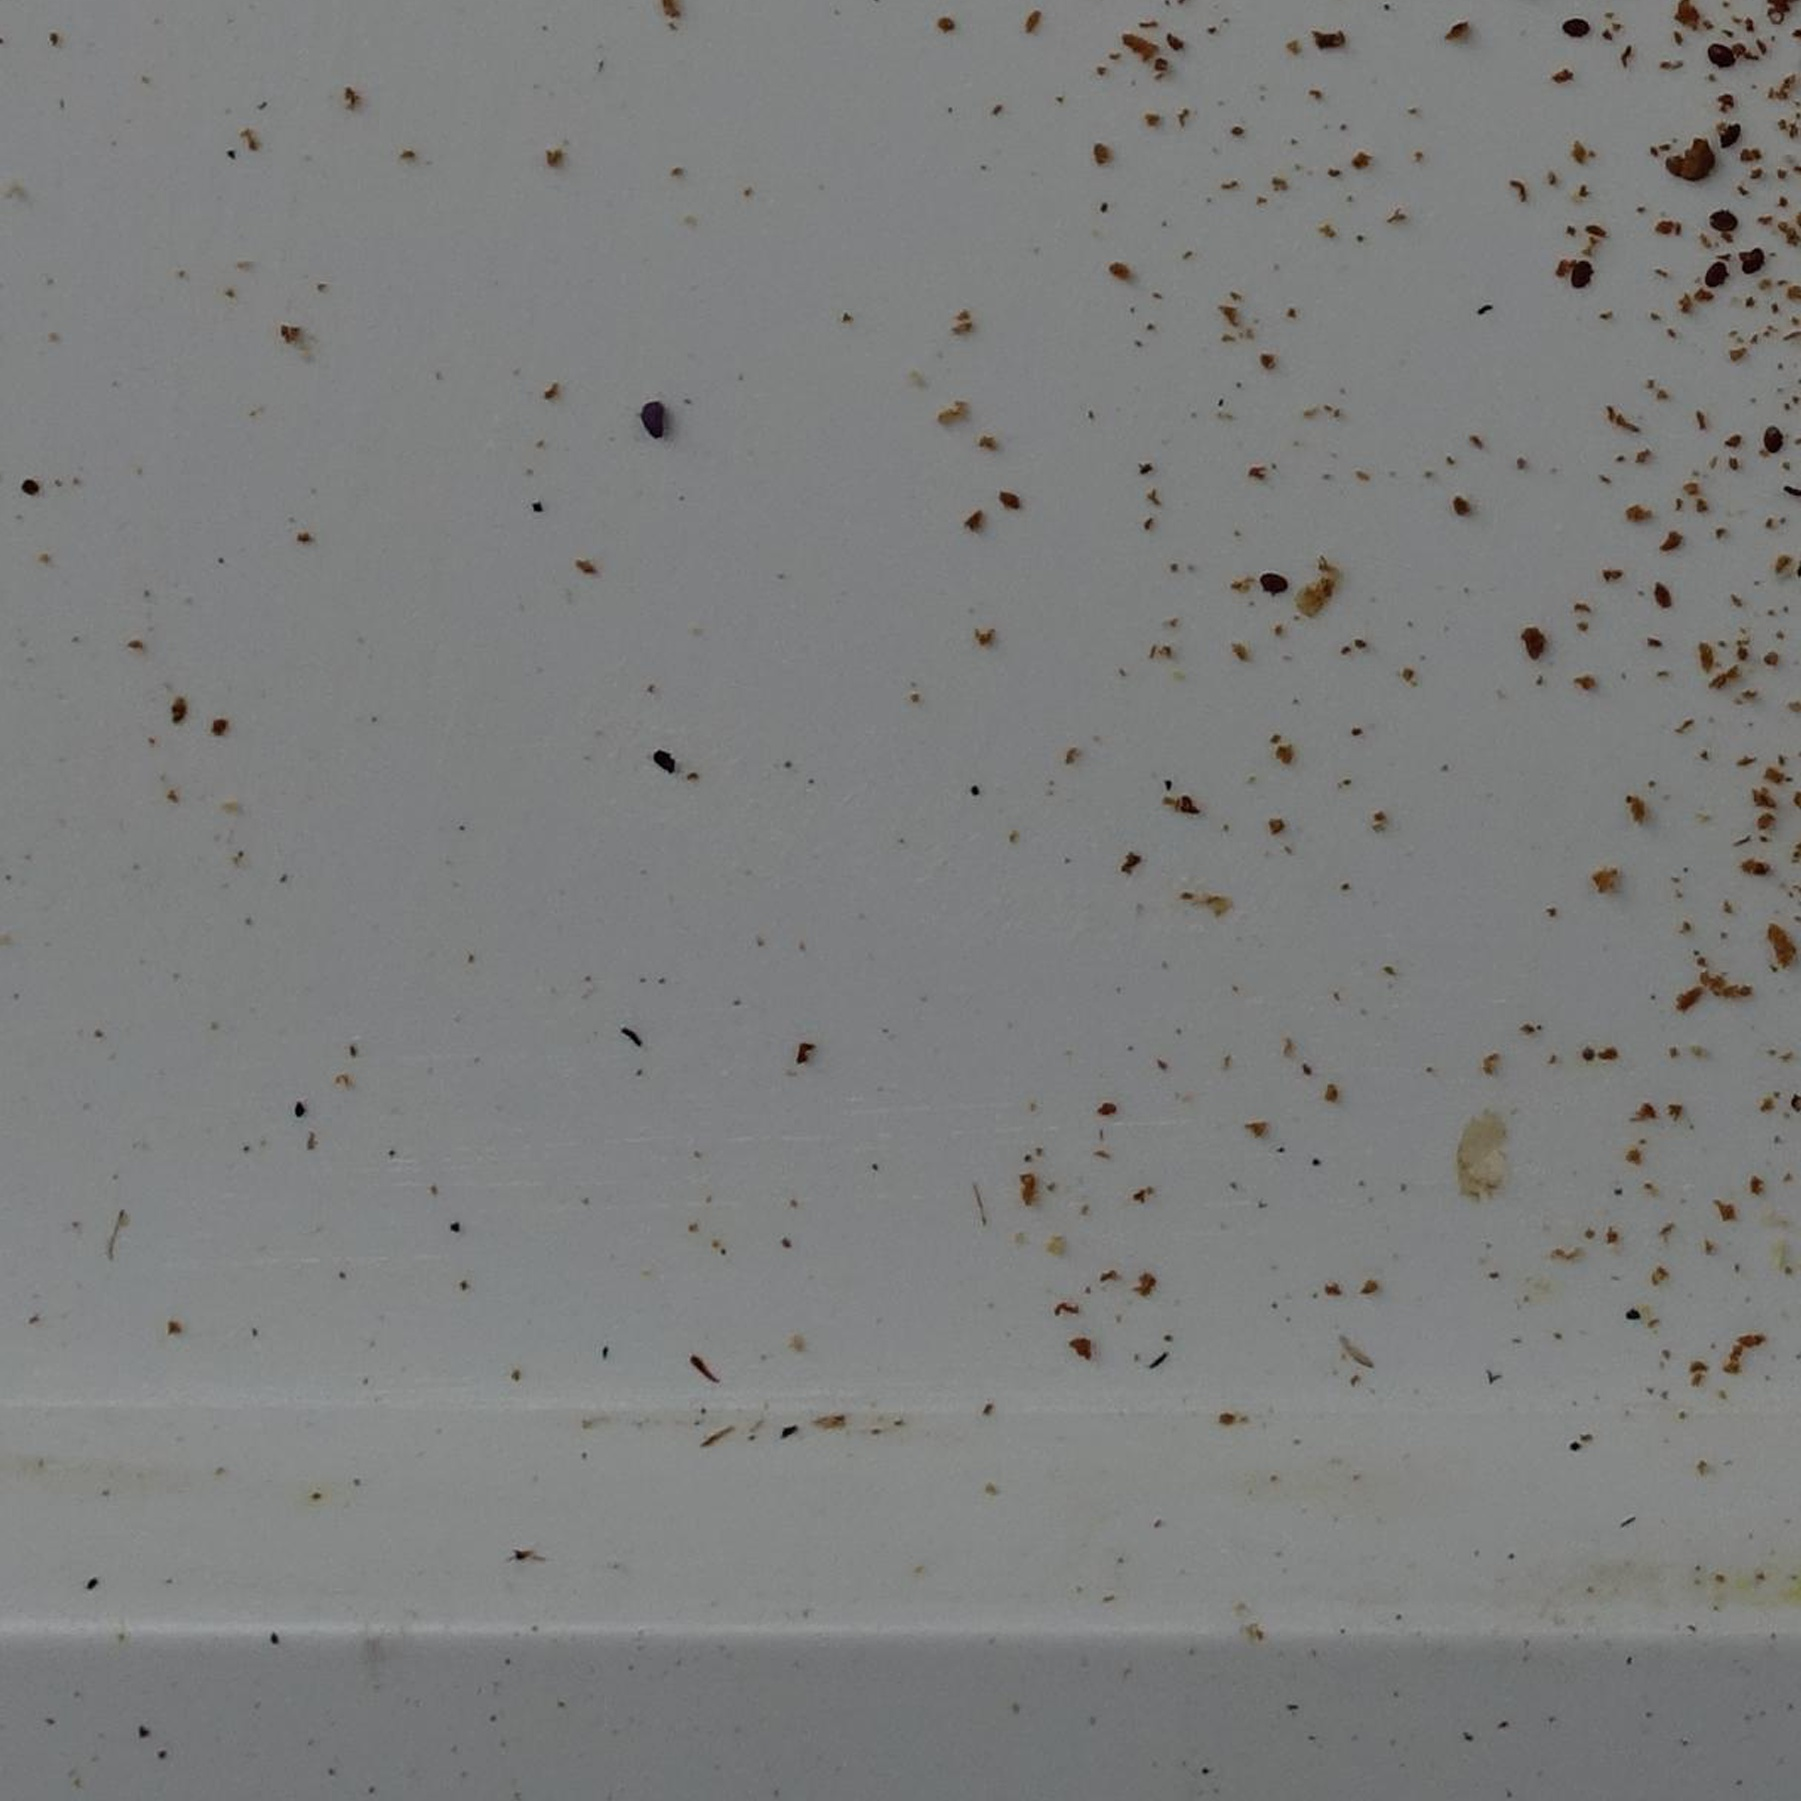Varroa: (1709, 114, 1753, 157), (1758, 426, 1786, 458), (1560, 13, 1588, 43), (1709, 36, 1737, 64), (1568, 261, 1596, 289), (1709, 252, 1737, 280), (1260, 571, 1286, 599), (1740, 247, 1766, 274), (1714, 198, 1740, 224)
